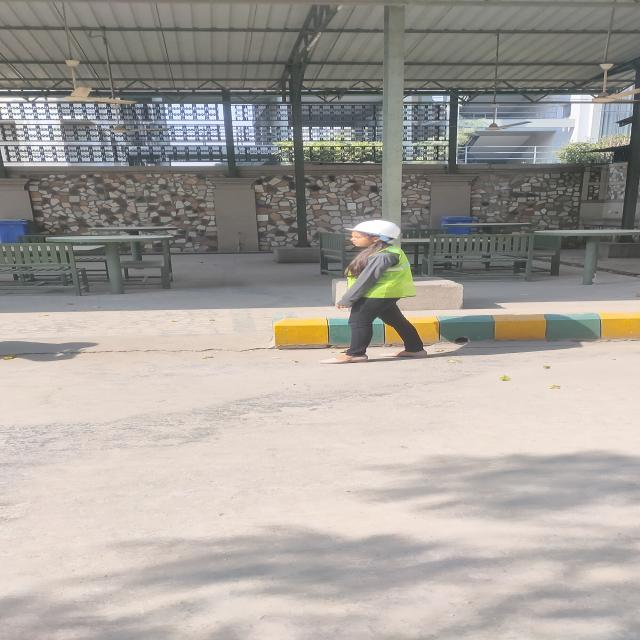safe: (345, 220, 418, 362)
